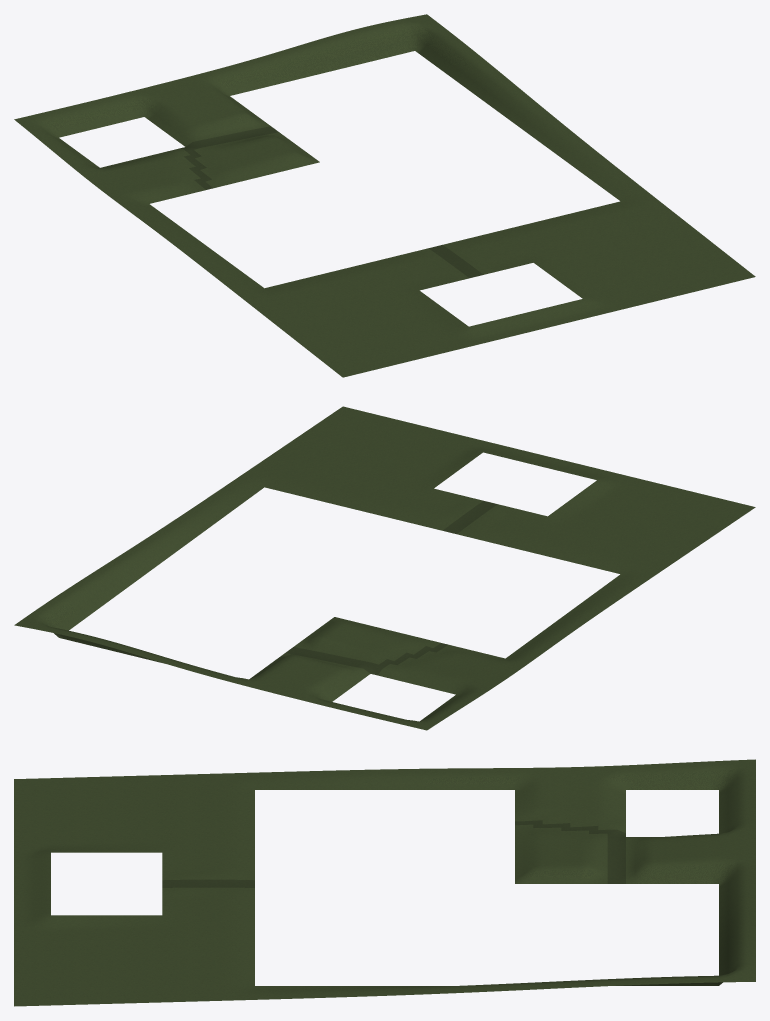
The model's file is level_site_mansion_terrain.glb.
The picture shows the model from 3 angles, top to bottom: view 1: azimuth 30°, elevation 25°; view 2: azimuth 150°, elevation 25°; view 3: azimuth 270°, elevation 25°; orthographic projection. The views are drawn at different scales.
Parts seen in each view (by area): view 1: level_site_mansion_terrain; view 2: level_site_mansion_terrain; view 3: level_site_mansion_terrain.
Part boxes in pixels (x1,y1,x2,y2): level_site_mansion_terrain: (14,14,755,377); level_site_mansion_terrain: (14,406,755,730); level_site_mansion_terrain: (14,759,755,1006).
Bounding box in the file's own units: 58 × 3.26 × 80.
Materials: 2 (2 with a texture image).
